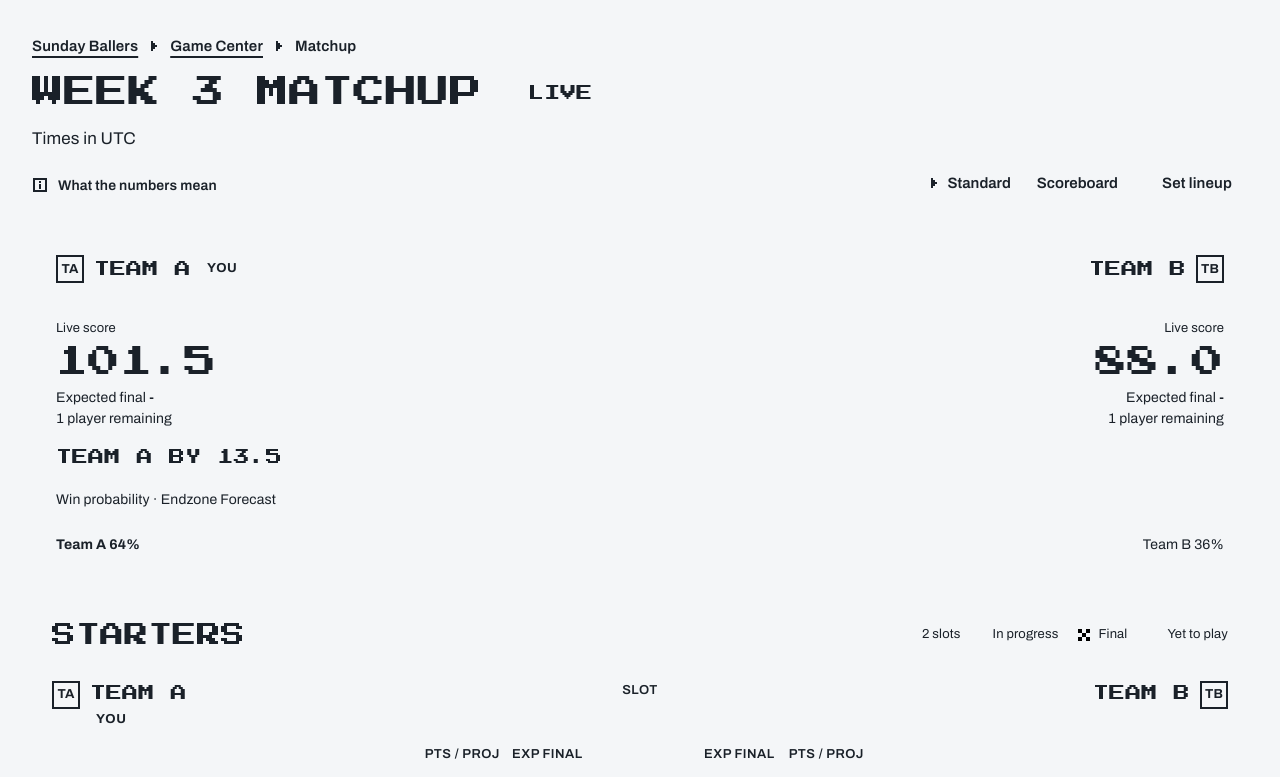
Test: a non-touchdown moment play (a sack) flashes the retro callout in Scoreboard view, not a cutscene or toast
Click the radio button labelled "Scoreboard" at (1077, 183), box [1023,161,1132,205]
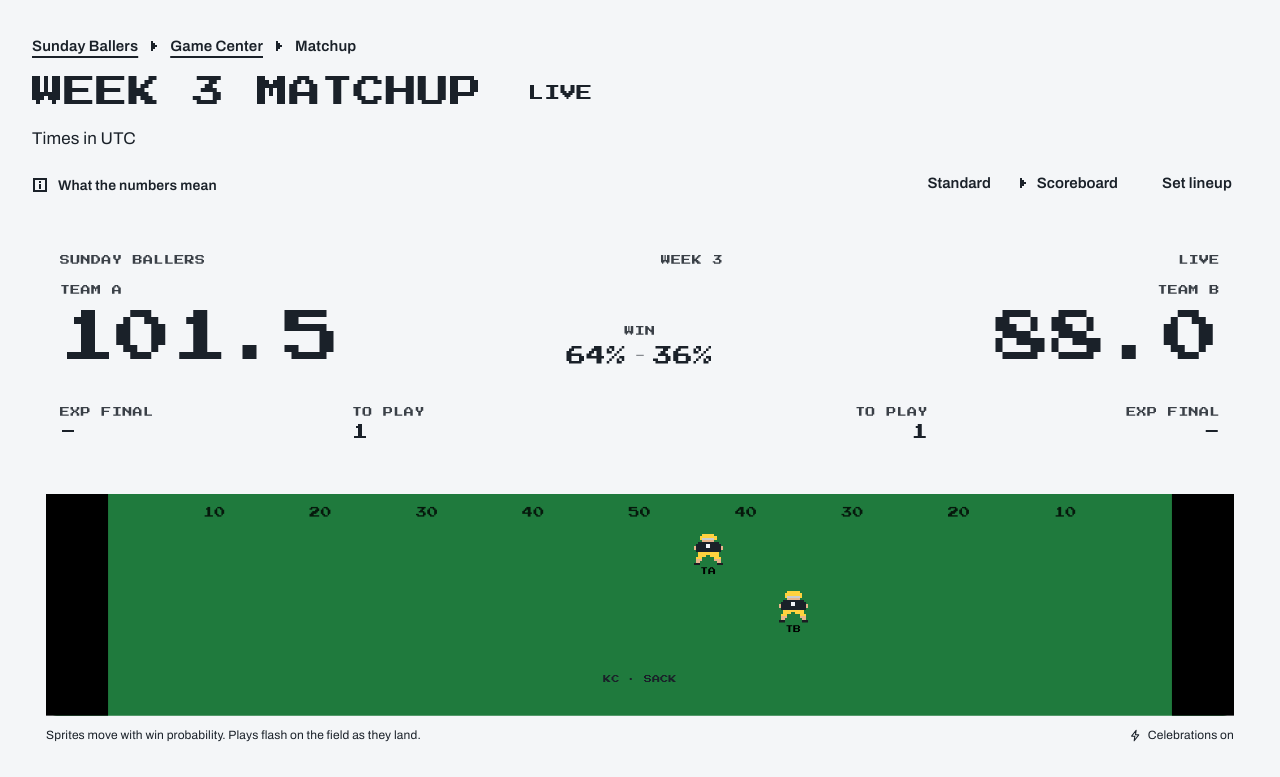
Expected: the message reads "KC · SACK", [603,674,677,682]
